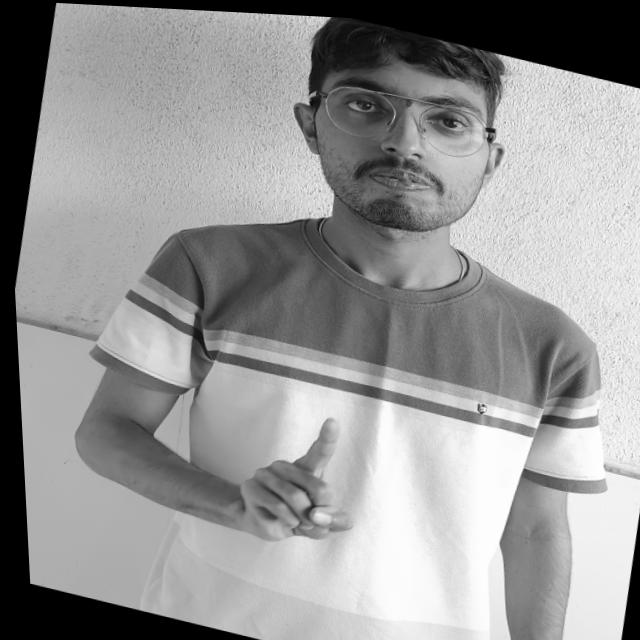Question: (174, 381, 425, 584)
